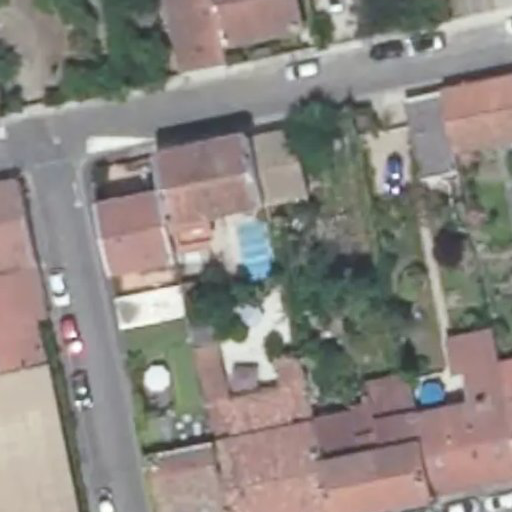pool: (236, 216, 274, 266)
